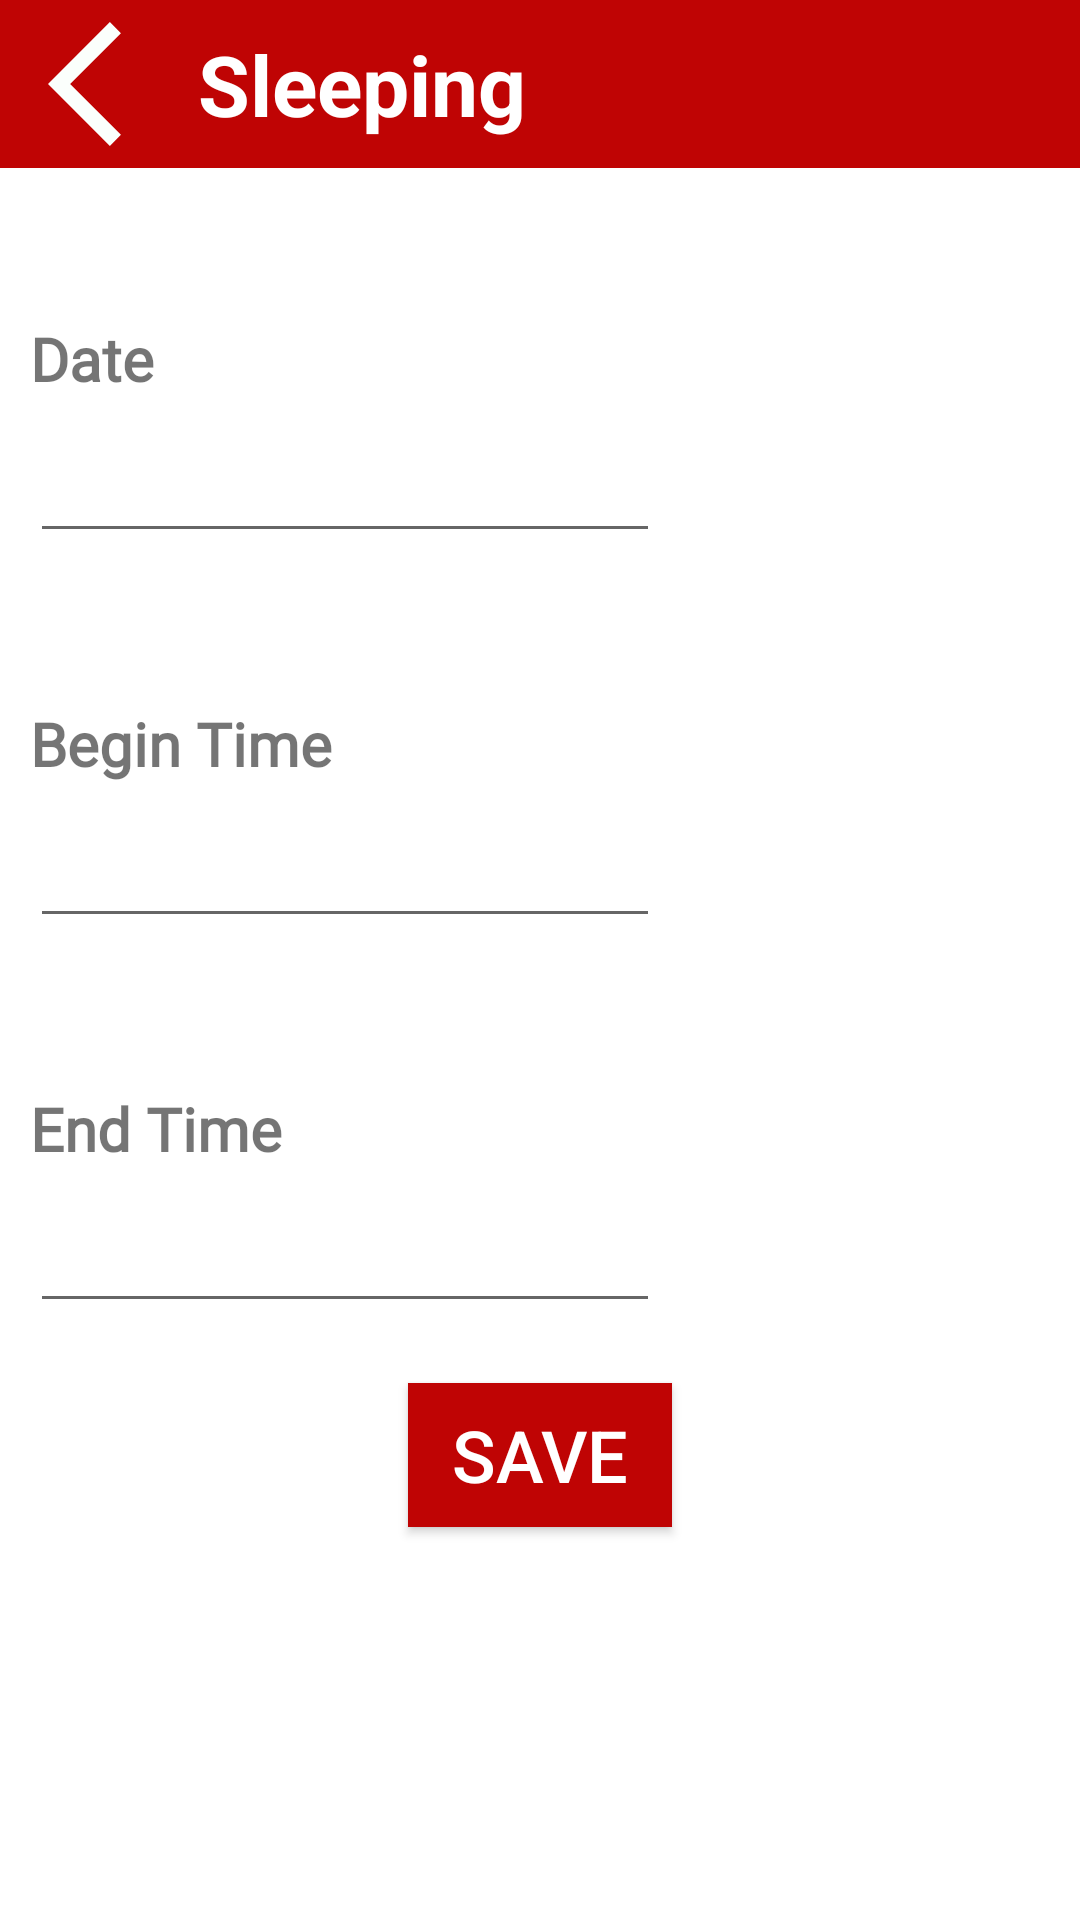

Icon click points for this 1080px x 1920px phone screenshot, format point (x, y):
arrow back: point (84, 84)
